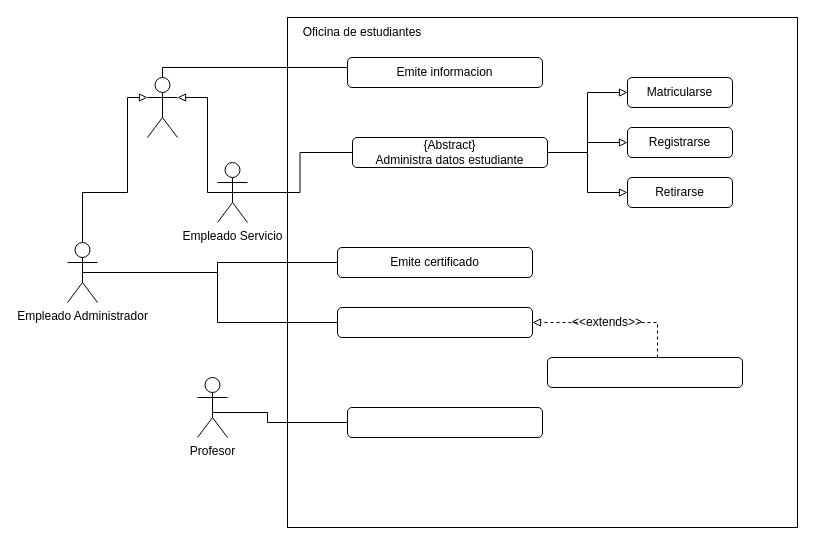
The diagram is 815 pixels wide and 545 high, and some of its shapes have lost their labels. The shapes that lost their labels are listed below. From the top down, each one's centre as x and y in pixels, then its label:
[162,107]: Empleado {Abstract}
[434,322]: Crear curso
[644,372]: Reserva sala
[444,422]: Envía Informacion Calificaciones
